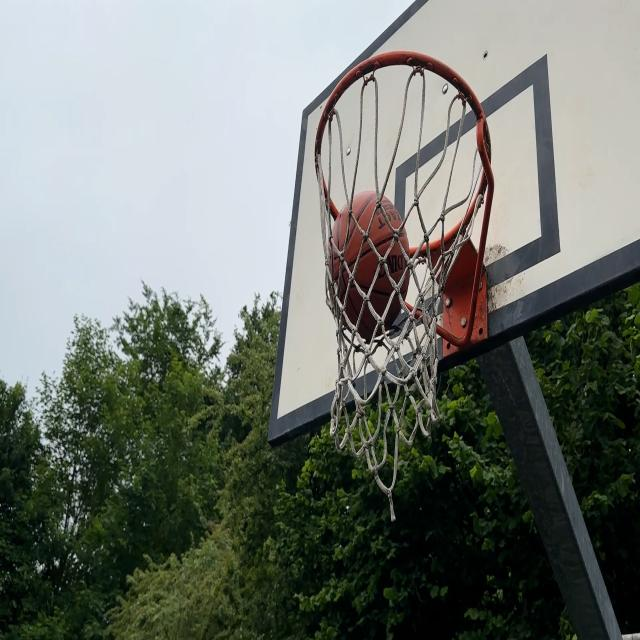Goal: (329, 192, 410, 331)
